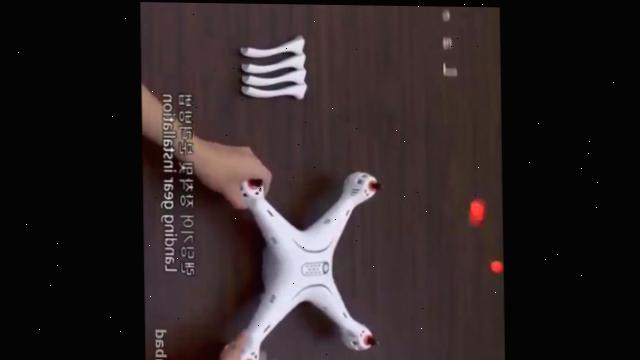drone: (226, 161, 387, 360)
